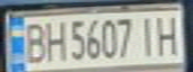0: (100, 16, 121, 60)
5: (66, 16, 87, 61)
6: (84, 16, 103, 61)
7: (115, 15, 136, 58)
B: (18, 19, 48, 64)
H: (151, 11, 184, 56), (42, 17, 69, 63)
I: (136, 14, 160, 57)
